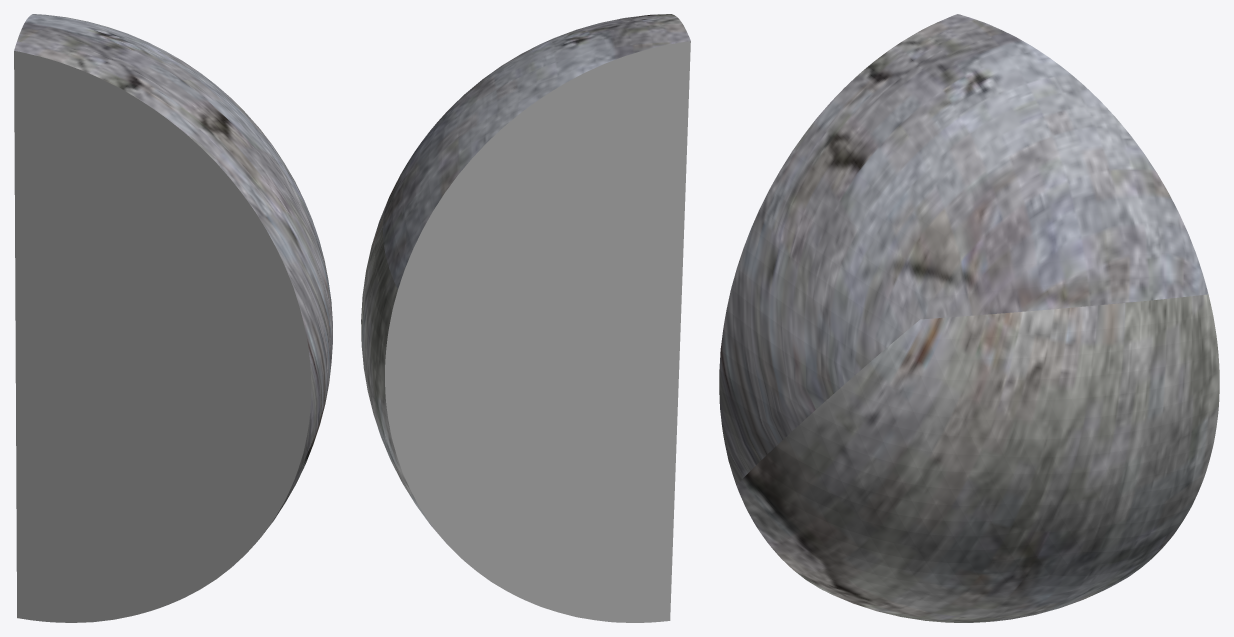
Rendered from sliced_ball2.obj.
The picture shows the model from 3 angles, left to right: view 1: azimuth 30°, elevation 25°; view 2: azimuth 150°, elevation 25°; view 3: azimuth 270°, elevation 25°; orthographic projection.
Visible parts, largest first — view 1: Object.1; view 2: Object.1; view 3: Object.1.
Boxes of the visible parts, x1,y1,x2,y2 form: Object.1: (14,14,332,622); Object.1: (361,14,690,622); Object.1: (719,14,1219,622).
Size of the model in its own units: 0.5108 by 0.9989 by 0.7846.
